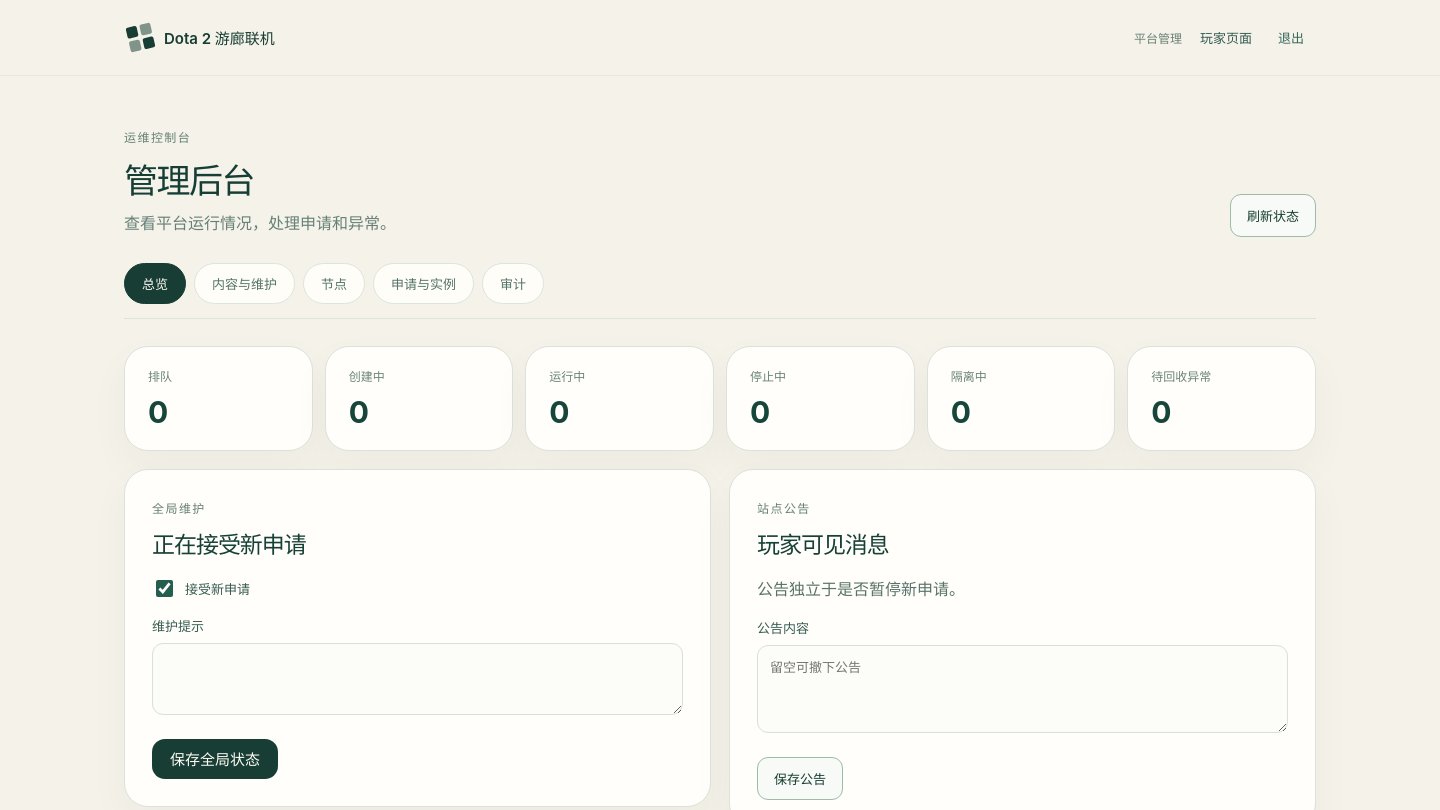
Scenario: shows legacy content validation only for a pure legacy game on the Node tab
Step 1. Click the button "节点" → (334, 283), box [303,263,365,304]
(page scrolled)
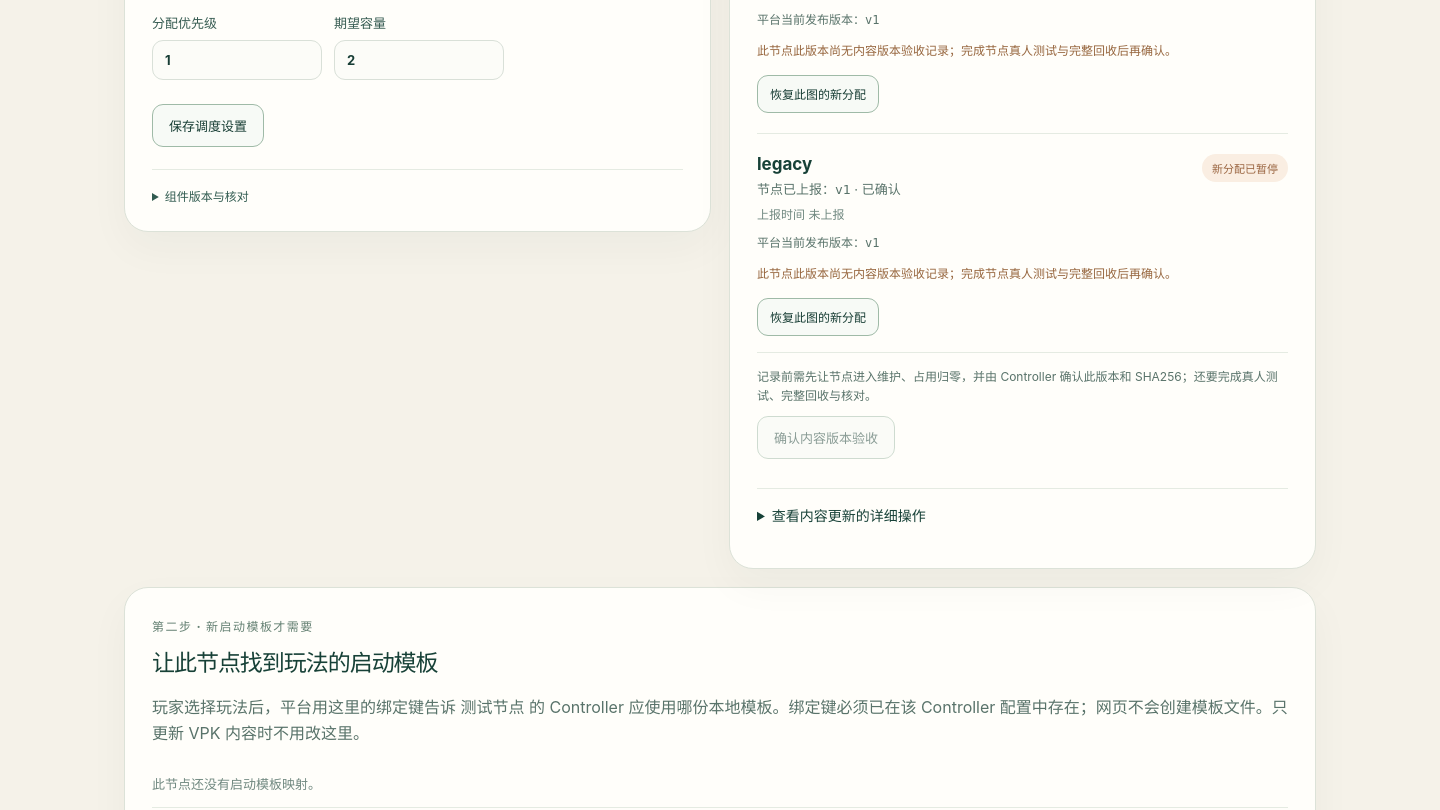
Expected: the element with class "admin-map-record" is shown, [757,352,1288,459]
